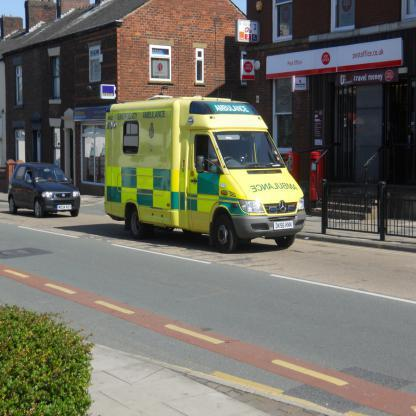Ambulance - v1 Ambulance last generate: (104, 78, 306, 252)
